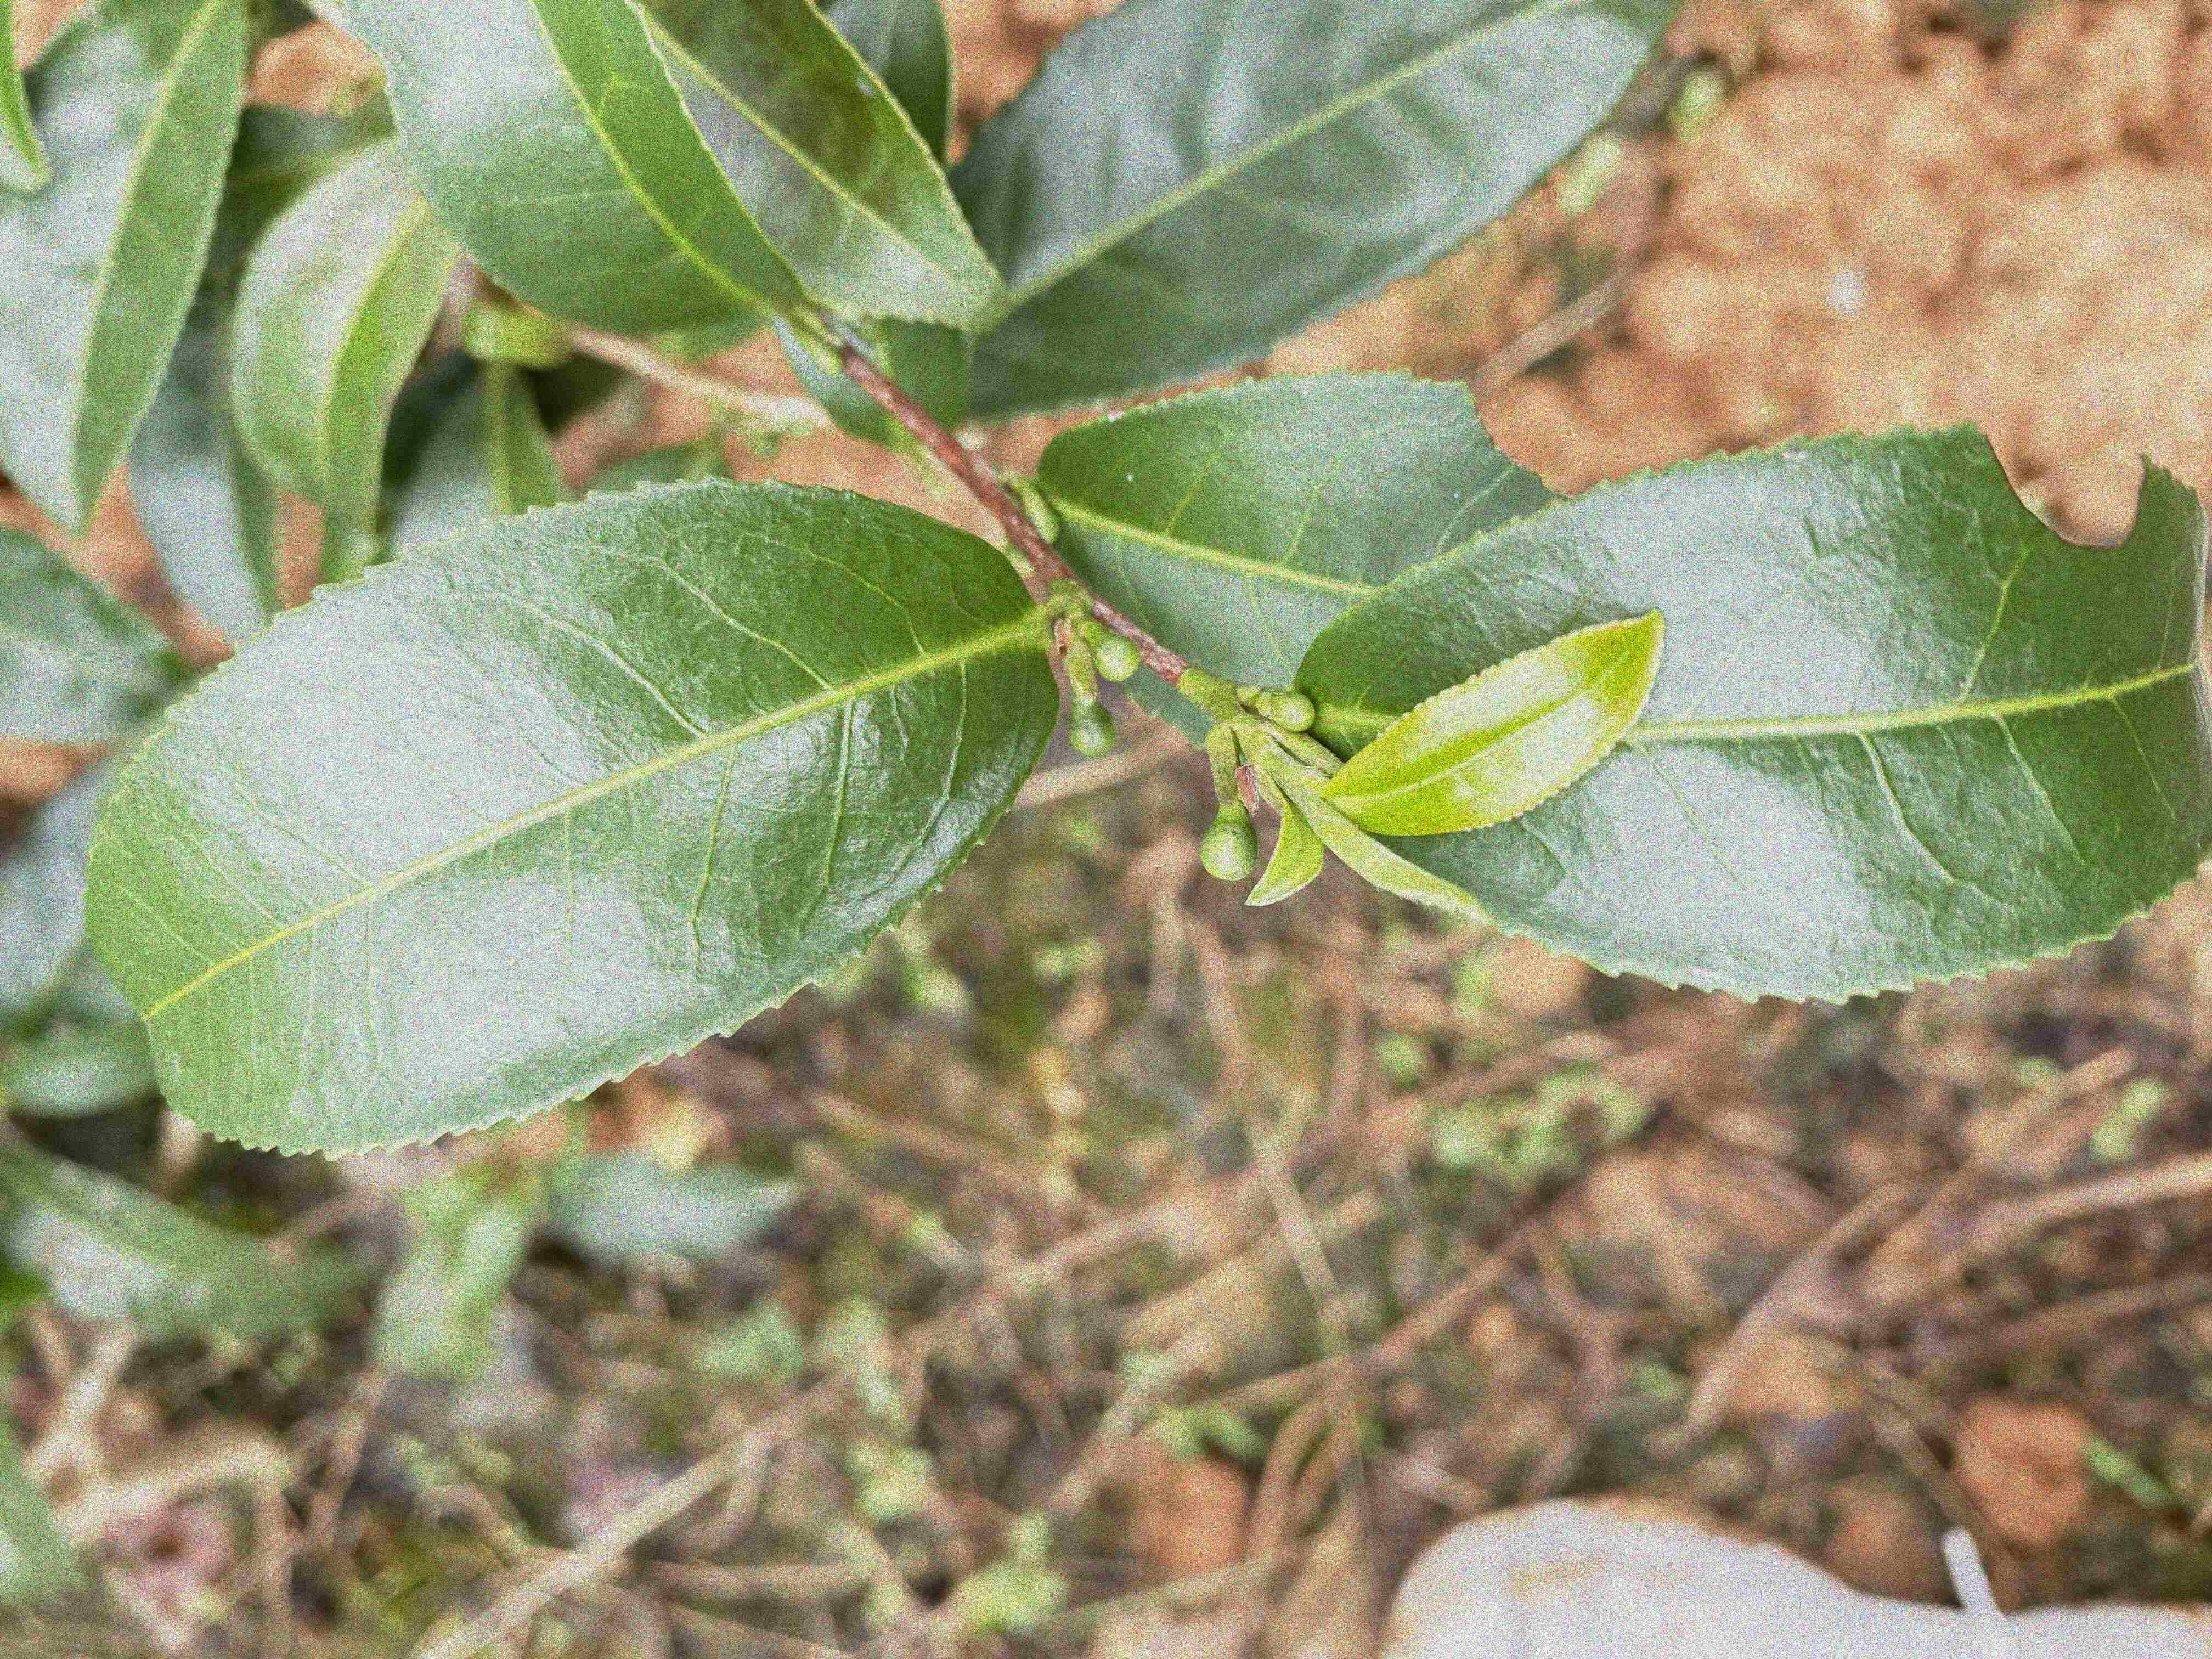chihuo_low: (1298, 422, 2210, 1004)
healthy: (80, 474, 1057, 1161), (341, 2, 803, 336), (1325, 617, 1665, 838)
